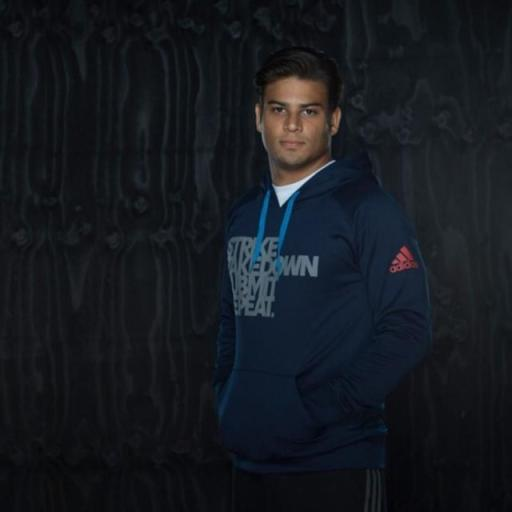Adidas: (386, 242, 420, 276)
